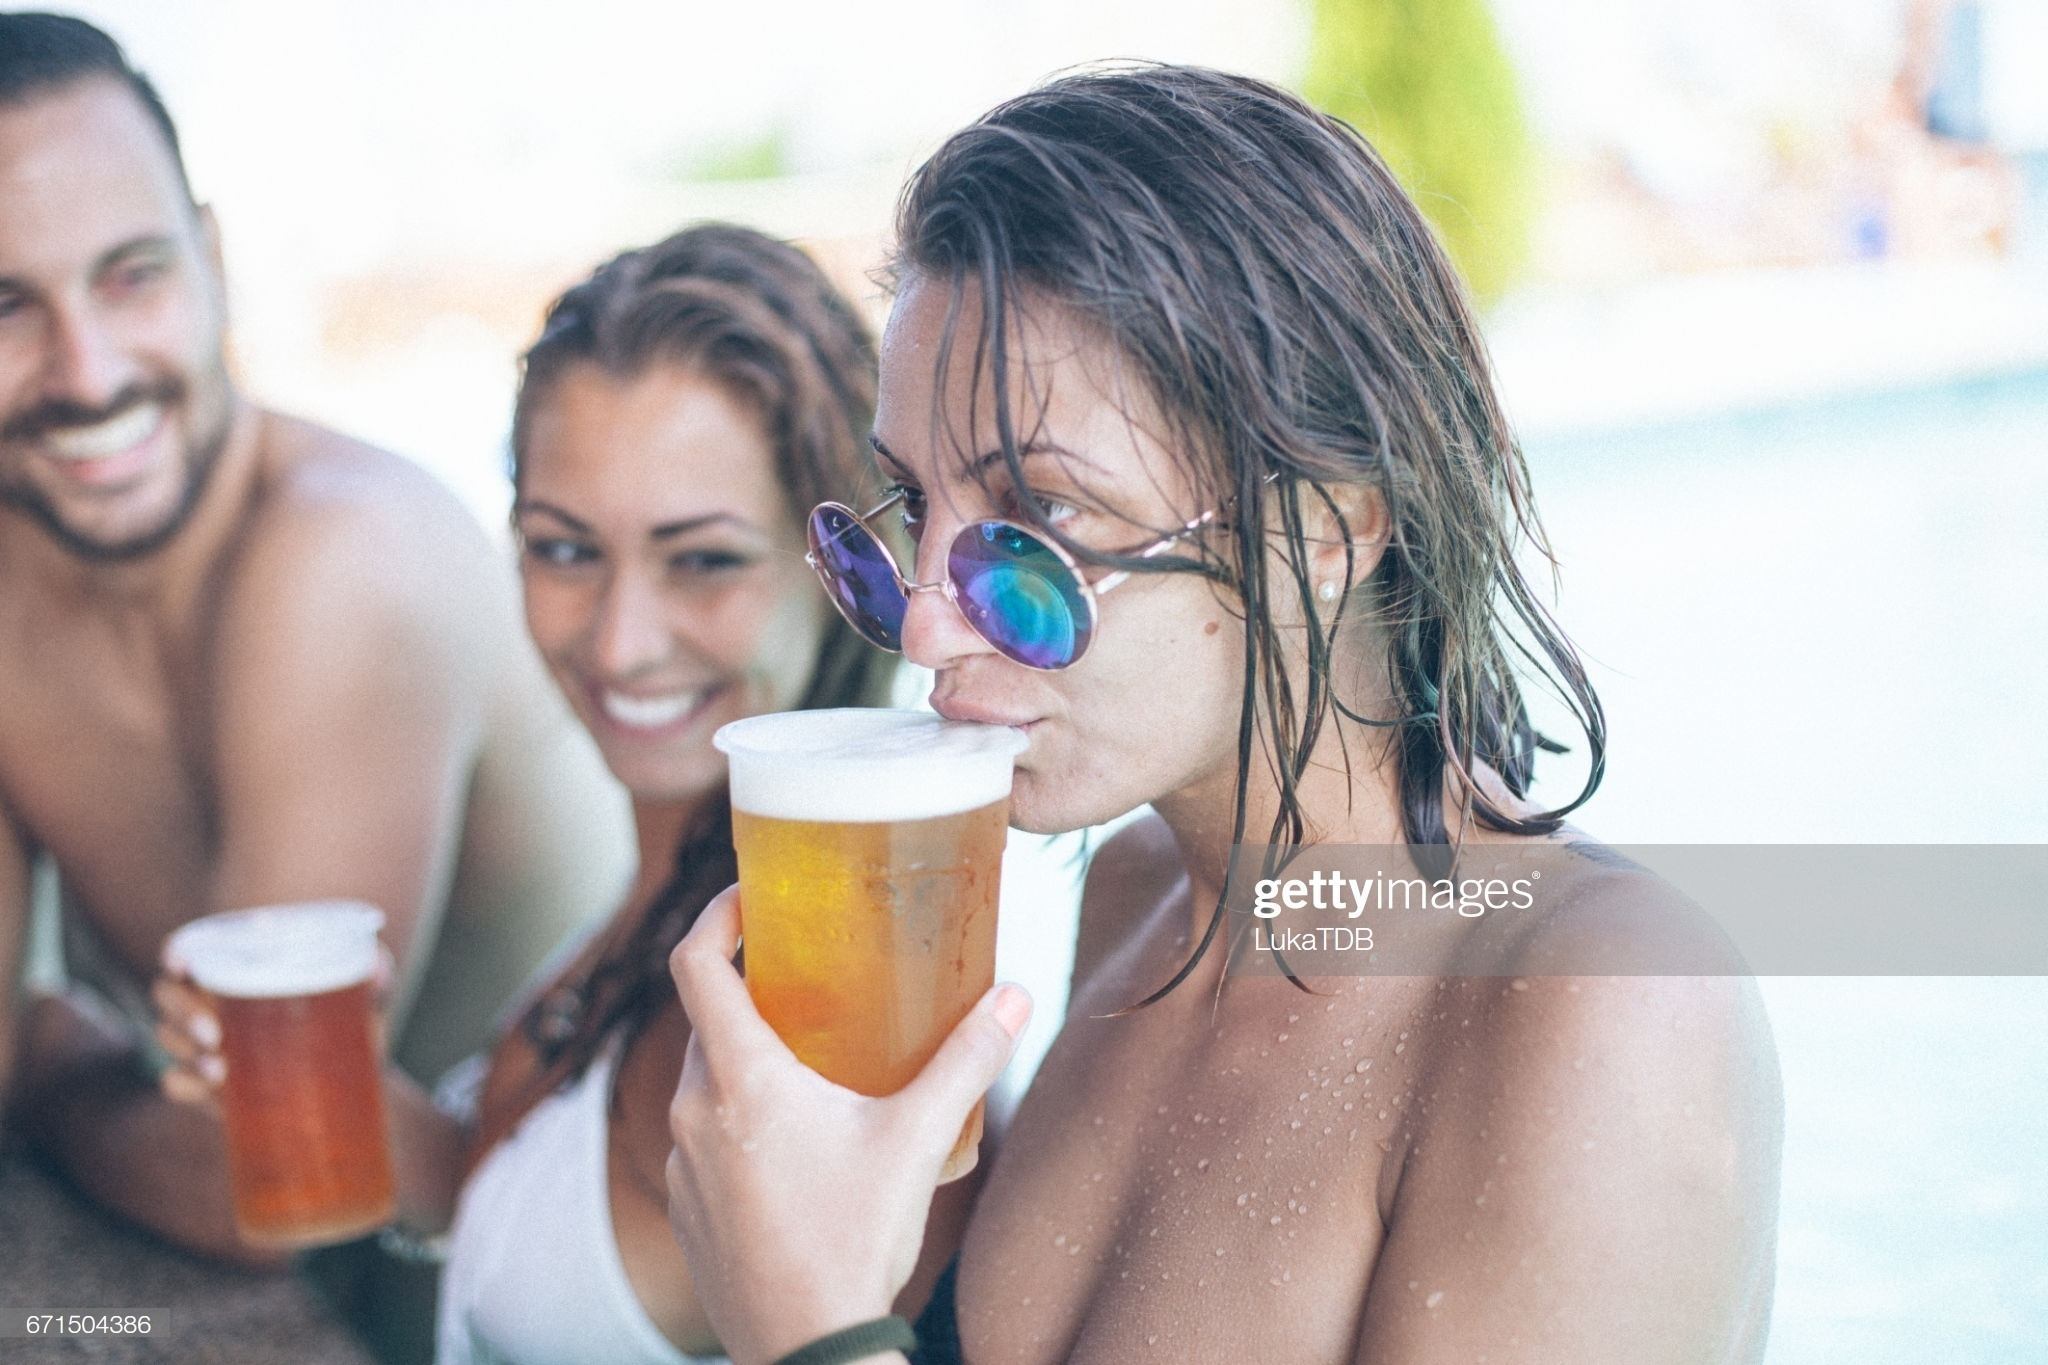whiskey: (716, 698, 1019, 1194), (177, 887, 407, 1255)
